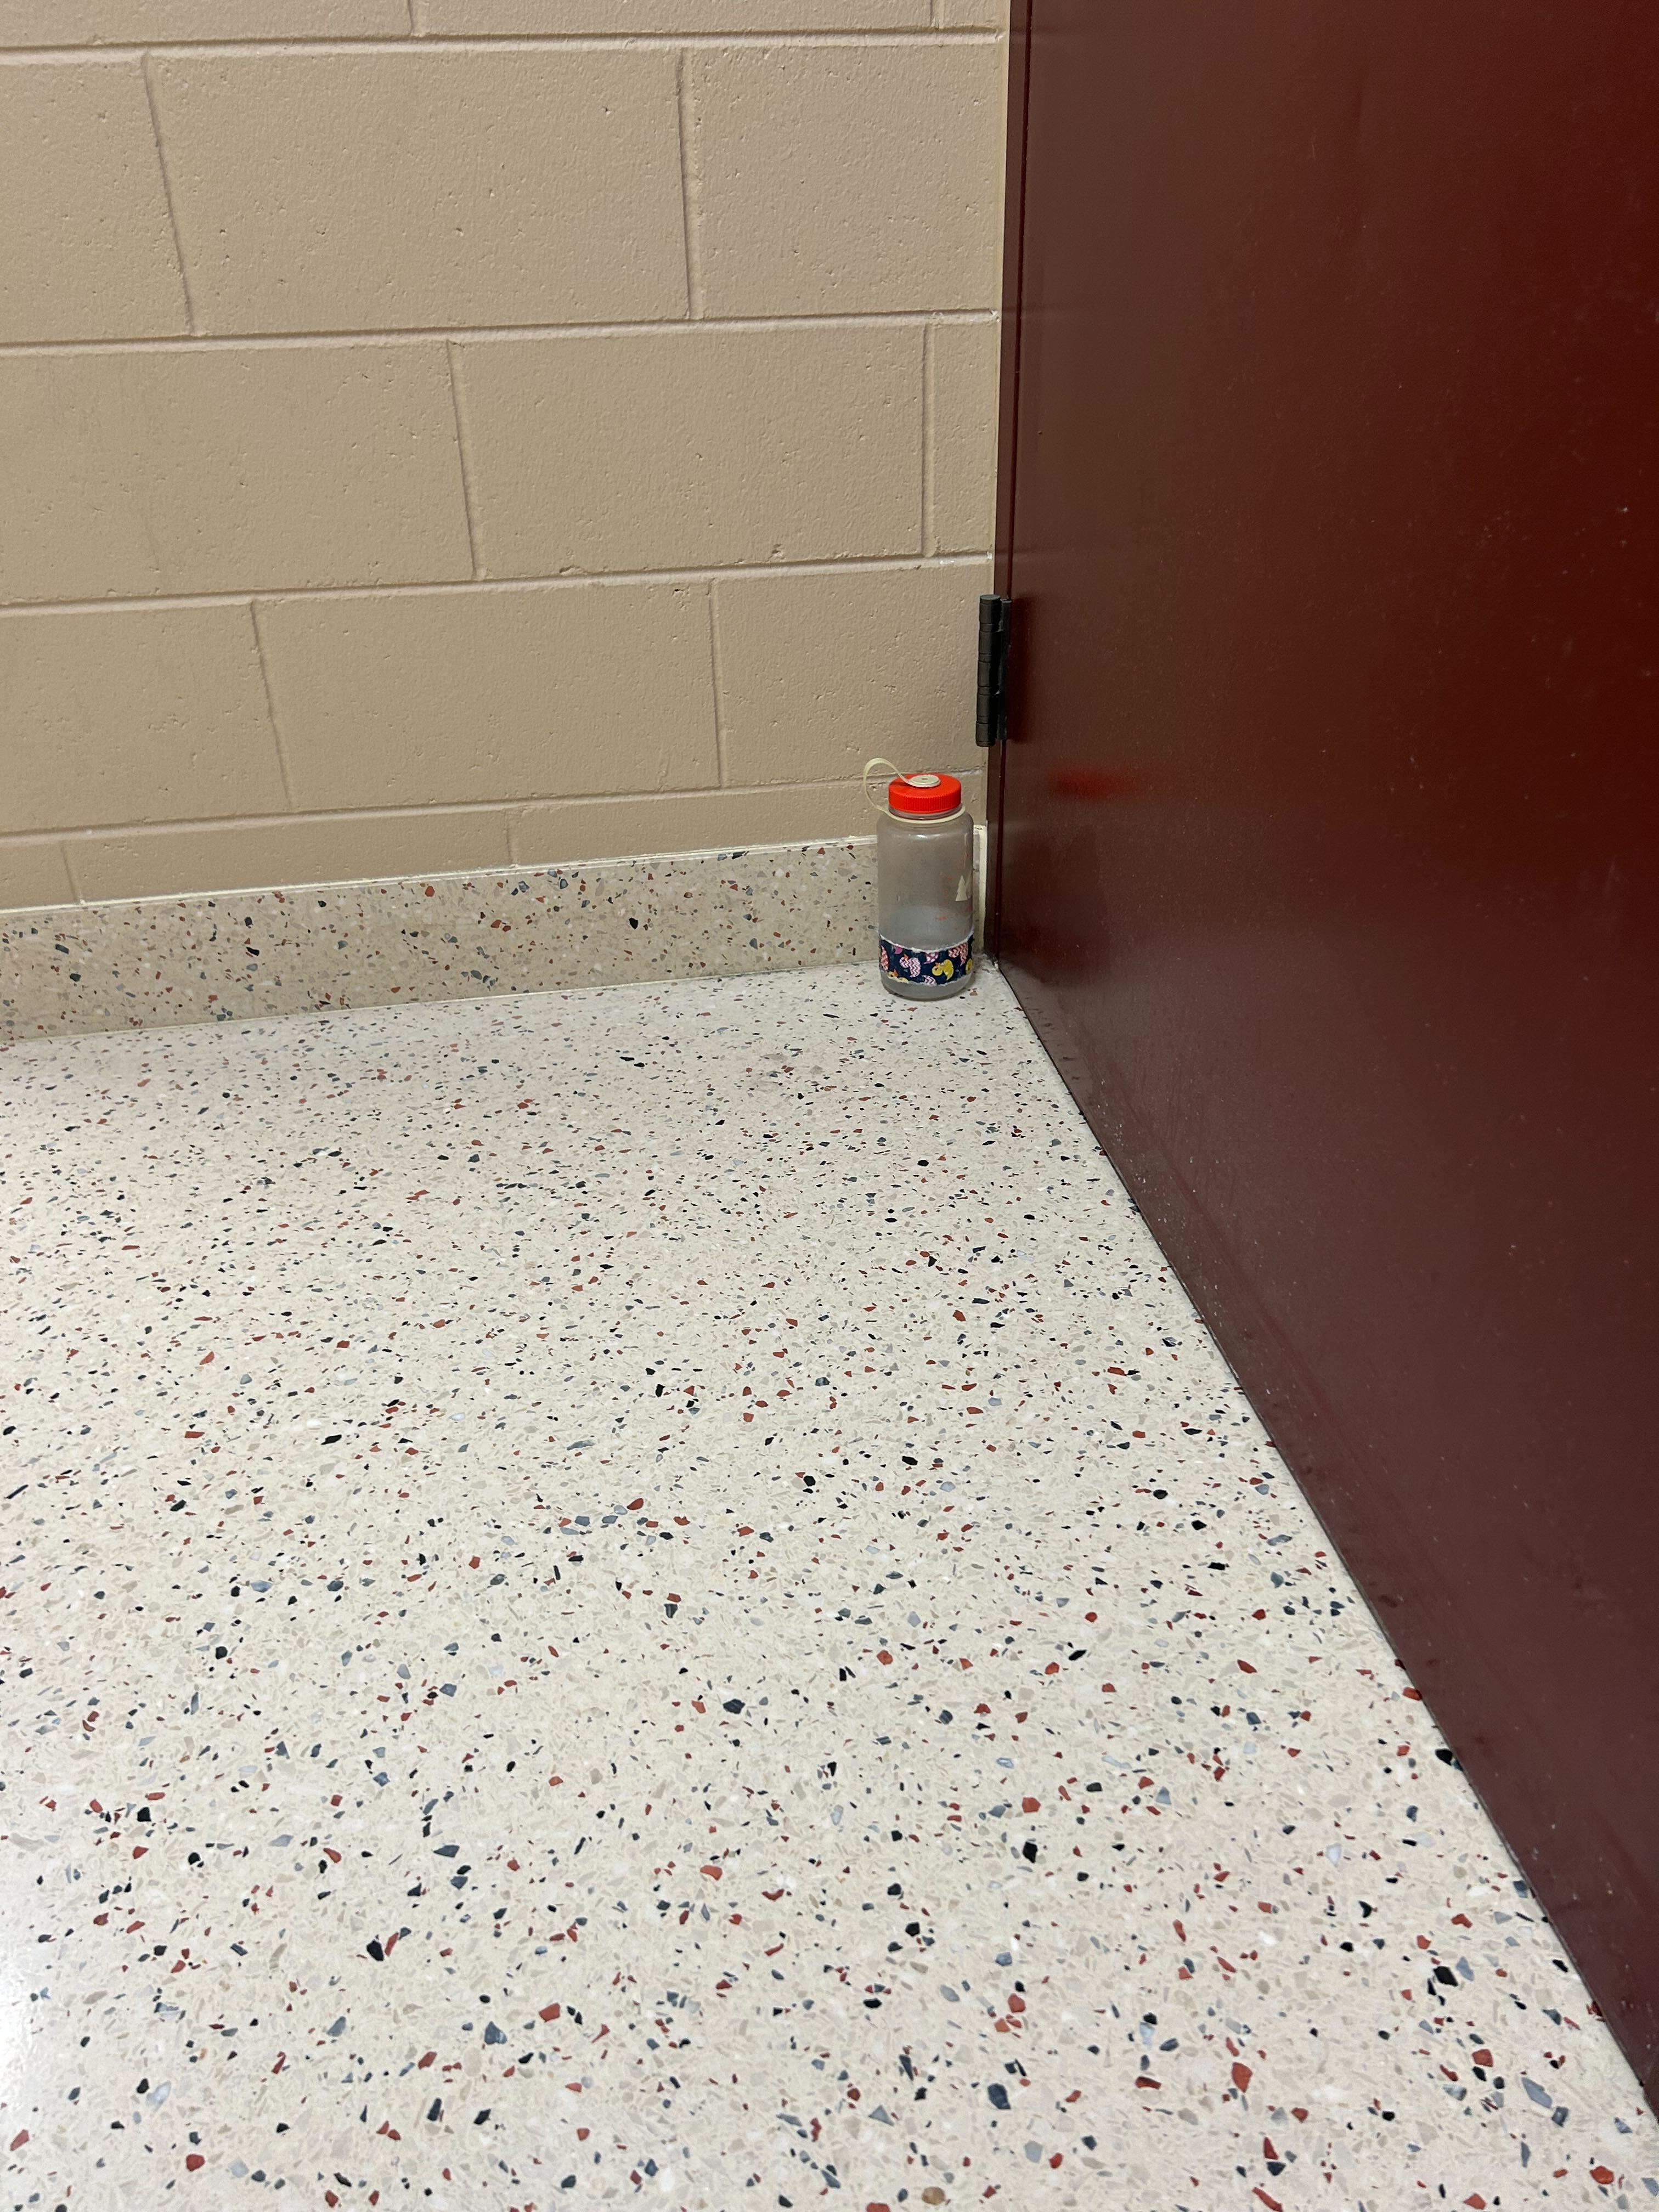bottle: (856, 745, 978, 1008)
